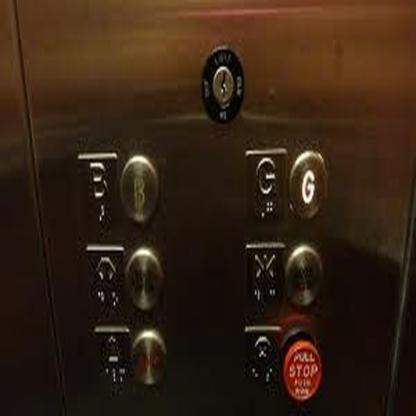B: (75, 151, 120, 226), (120, 155, 159, 225)
G: (244, 145, 288, 222), (289, 146, 330, 224)
alarm: (90, 324, 132, 395)
blur: (284, 240, 323, 310), (126, 244, 164, 314), (130, 325, 167, 387)
close: (243, 239, 285, 310)
keyhole: (201, 44, 245, 127)
open: (82, 242, 126, 312)
stop: (244, 324, 282, 390)
text_stop: (284, 330, 322, 403)
